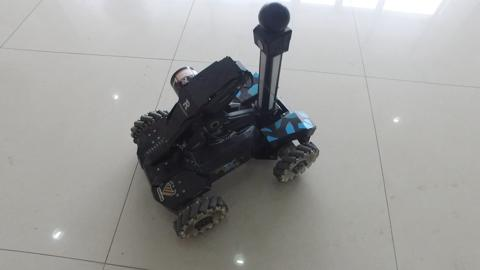chariot: (111, 5, 310, 231)
